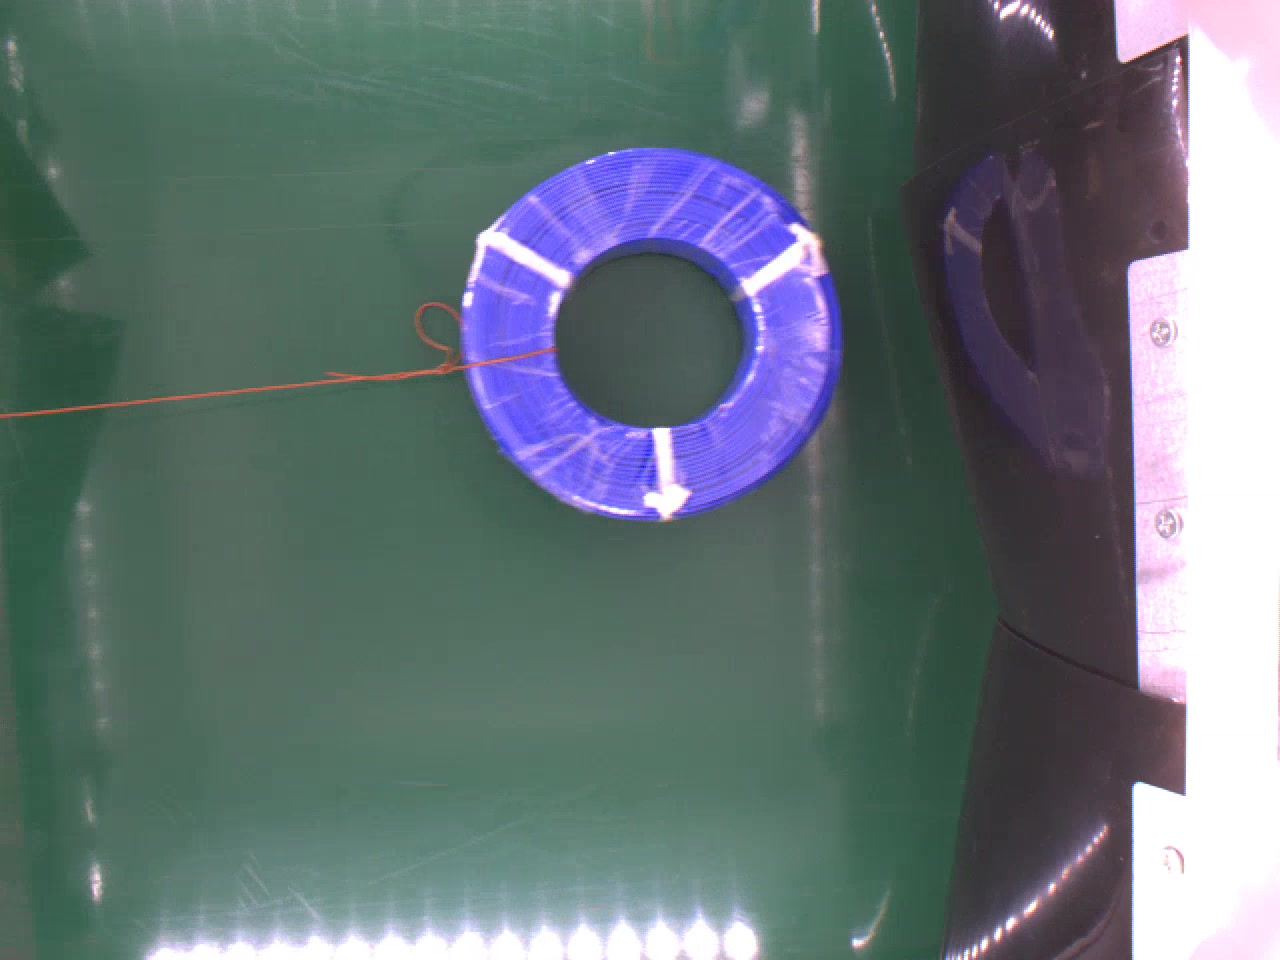blue: (456, 142, 840, 520)
